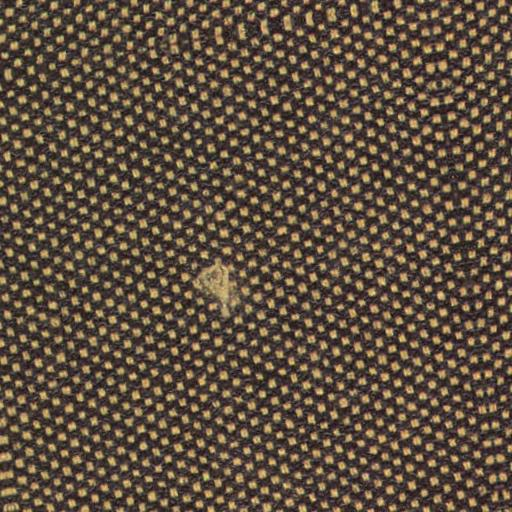knot: (185, 258, 248, 331)
